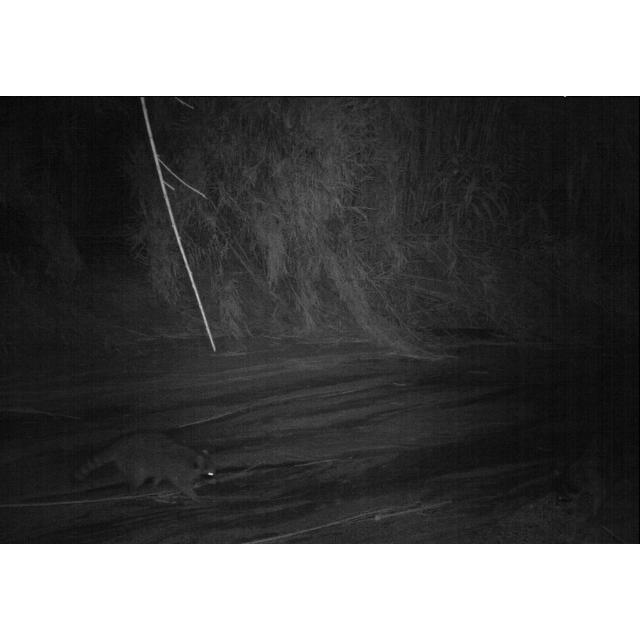animals: (82, 428, 212, 506)
